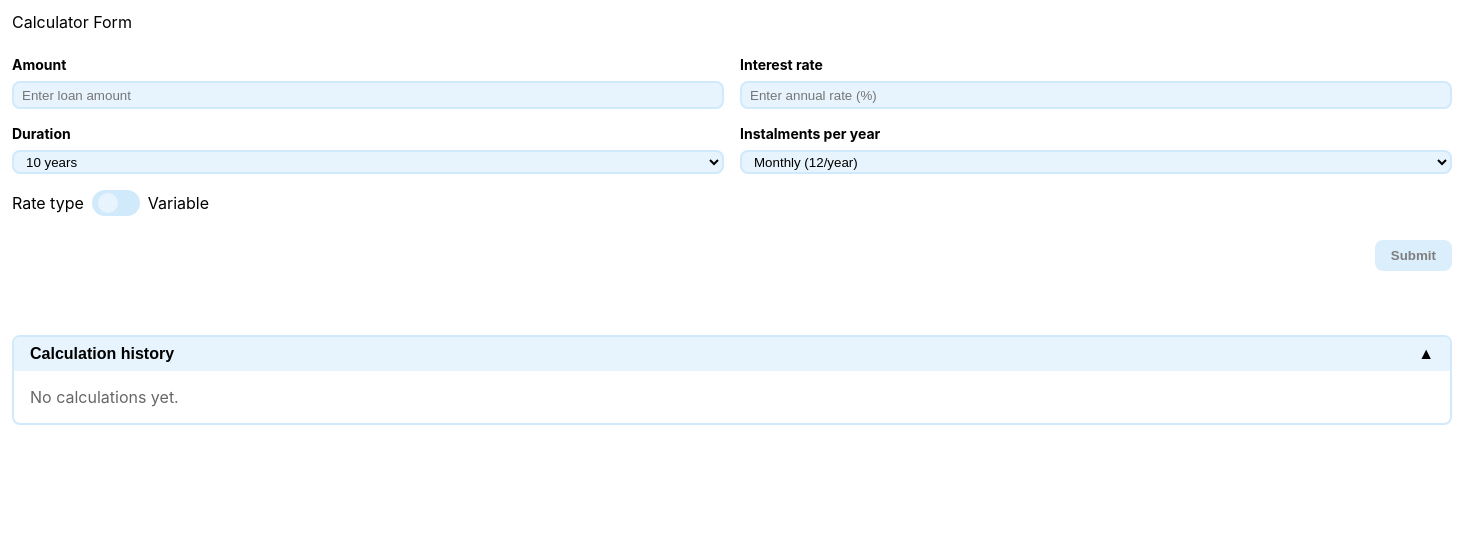
Test case: CalculatorForm › saves the result to localStorage after submit
This screenshot has width=1464, height=535.
Step 1. Type "150000" into the number field labelled "Amount" → [368, 95], box 12,81 -> 724,109
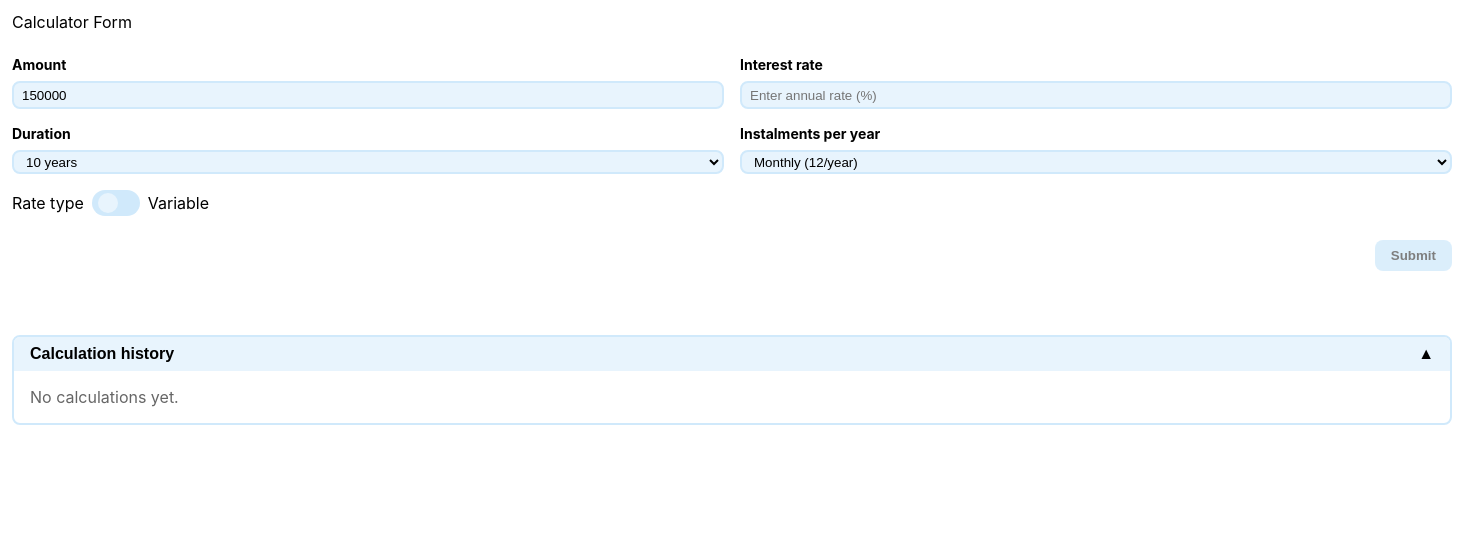
Step 2. Type "4" into the number field labelled "Interest rate" → [1096, 95], box 740,81 -> 1452,109
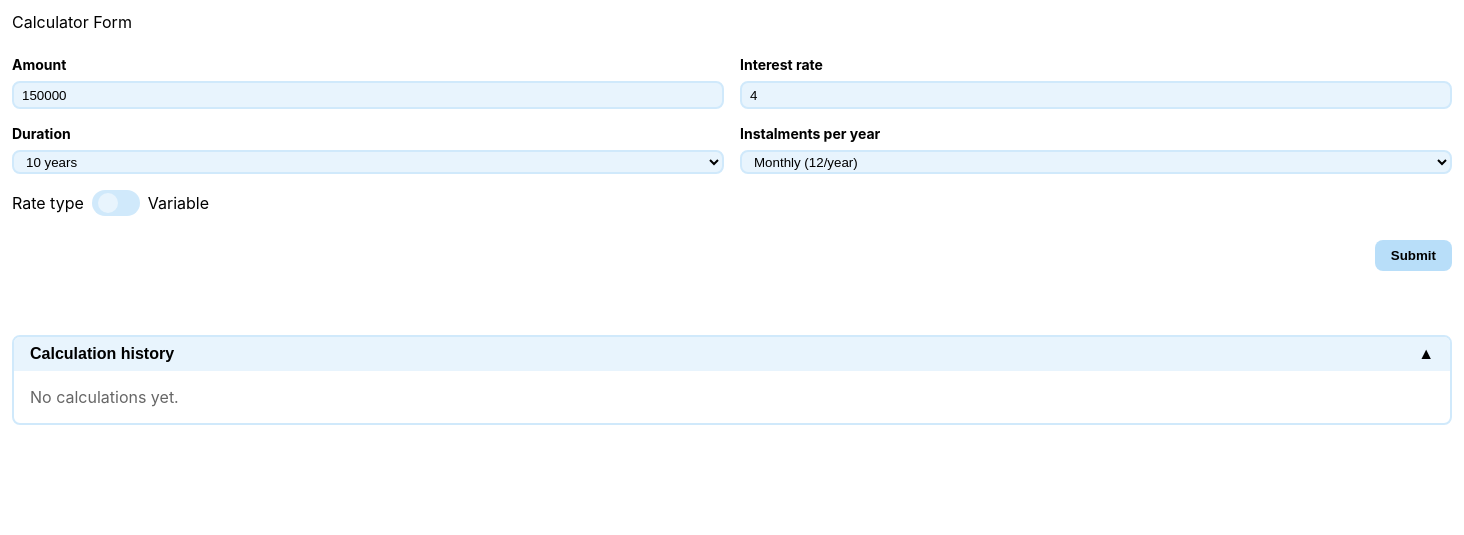
Step 3. Click the button "Submit" → [1413, 256], box 1375,240 -> 1452,271
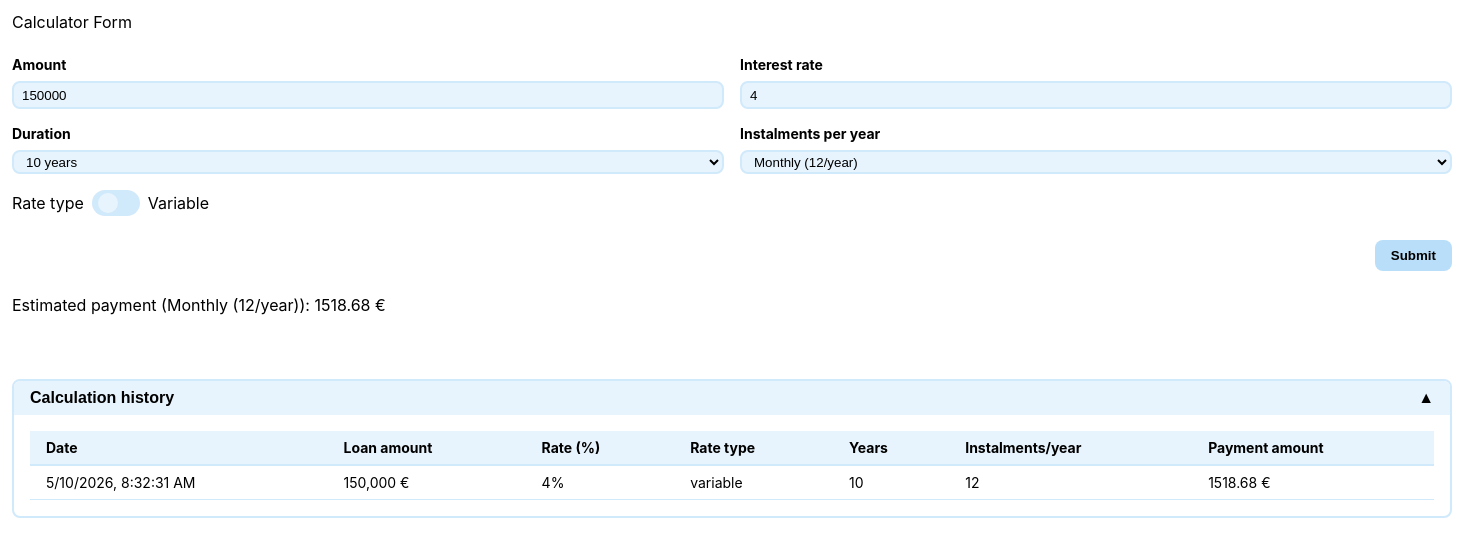
Now the cell "variable" is shown, box 674,465 -> 833,500
